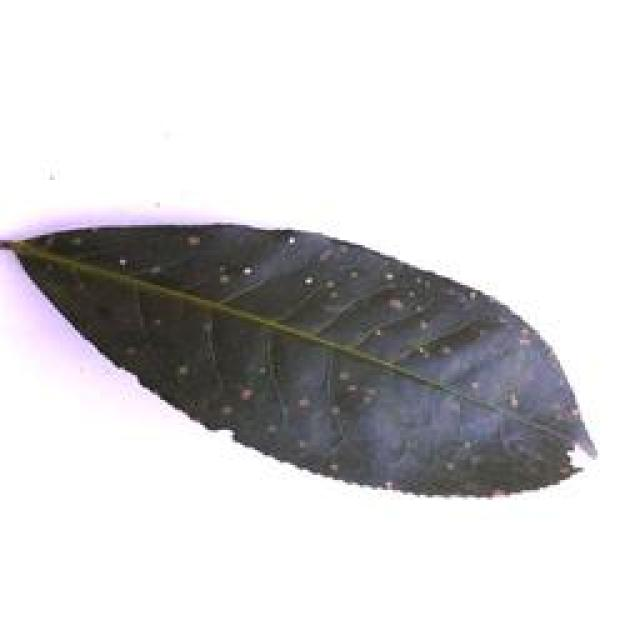Algal Leaf Spot: (6, 220, 593, 492)
